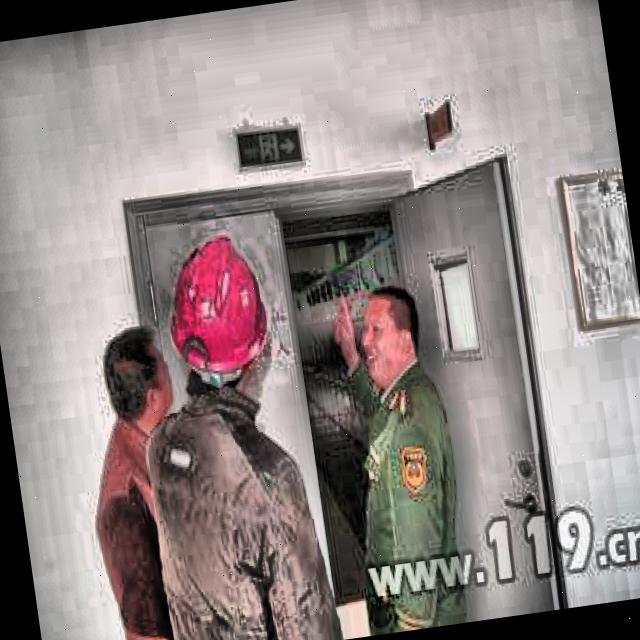helmet: (154, 217, 288, 438)
